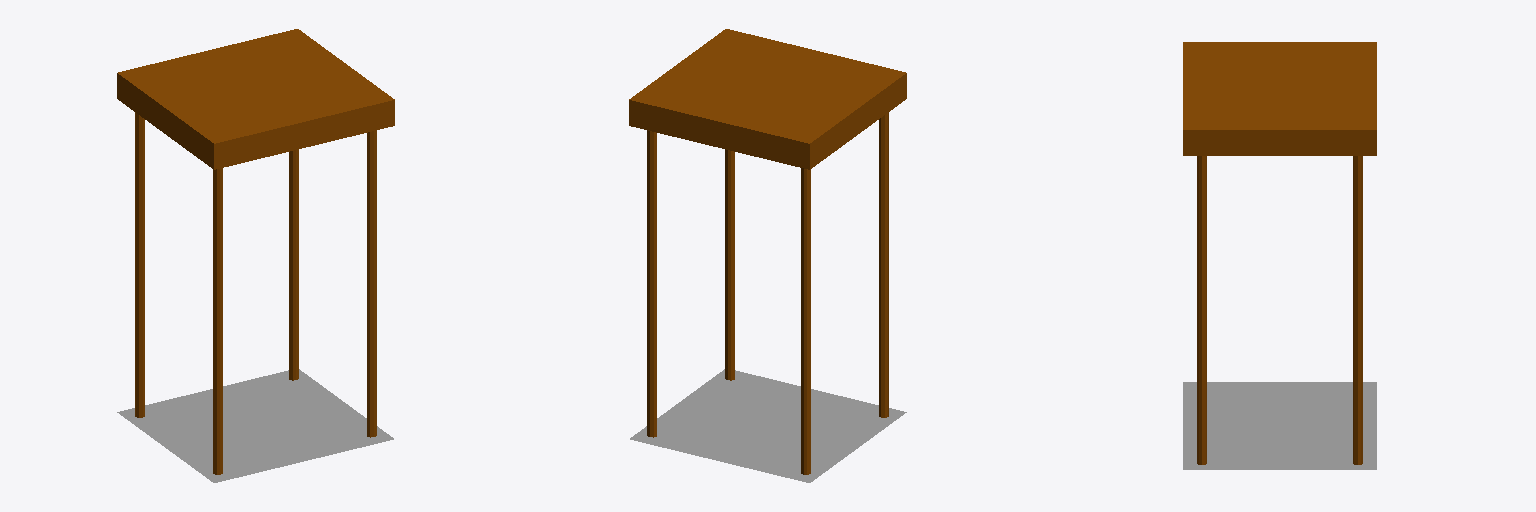
Rendered from table.obj.
3 renders of one model, left to right at view 1: azimuth 30°, elevation 25°; view 2: azimuth 150°, elevation 25°; view 3: azimuth 270°, elevation 25°, orthographic.
Parts seen in each view (by area): view 1: Plateau_10, ground_1, Pied_1_12_3, Pied_12_5, Pied_2_12_7, Pied_3_12_9; view 2: Plateau_10, ground_1, Pied_2_12_7, Pied_3_12_9, Pied_1_12_3, Pied_12_5; view 3: Plateau_10, ground_1, Pied_12_5, Pied_3_12_9.
Boxes of the visible parts, <box> form: Plateau_10: <box>117,29,394,169</box>; ground_1: <box>117,369,393,482</box>; Pied_1_12_3: <box>213,168,222,474</box>; Pied_12_5: <box>367,130,376,437</box>; Pied_2_12_7: <box>135,112,144,417</box>; Pied_3_12_9: <box>289,149,298,380</box>; Plateau_10: <box>629,29,906,169</box>; ground_1: <box>630,369,906,482</box>; Pied_2_12_7: <box>801,168,810,474</box>; Pied_3_12_9: <box>647,130,656,437</box>; Pied_1_12_3: <box>879,112,888,417</box>; Pied_12_5: <box>725,149,734,380</box>; Plateau_10: <box>1183,42,1376,155</box>; ground_1: <box>1183,382,1376,469</box>; Pied_12_5: <box>1197,156,1206,464</box>; Pied_3_12_9: <box>1353,156,1362,464</box>.
Bounding box in the file's own units: 58 × 104 × 54.